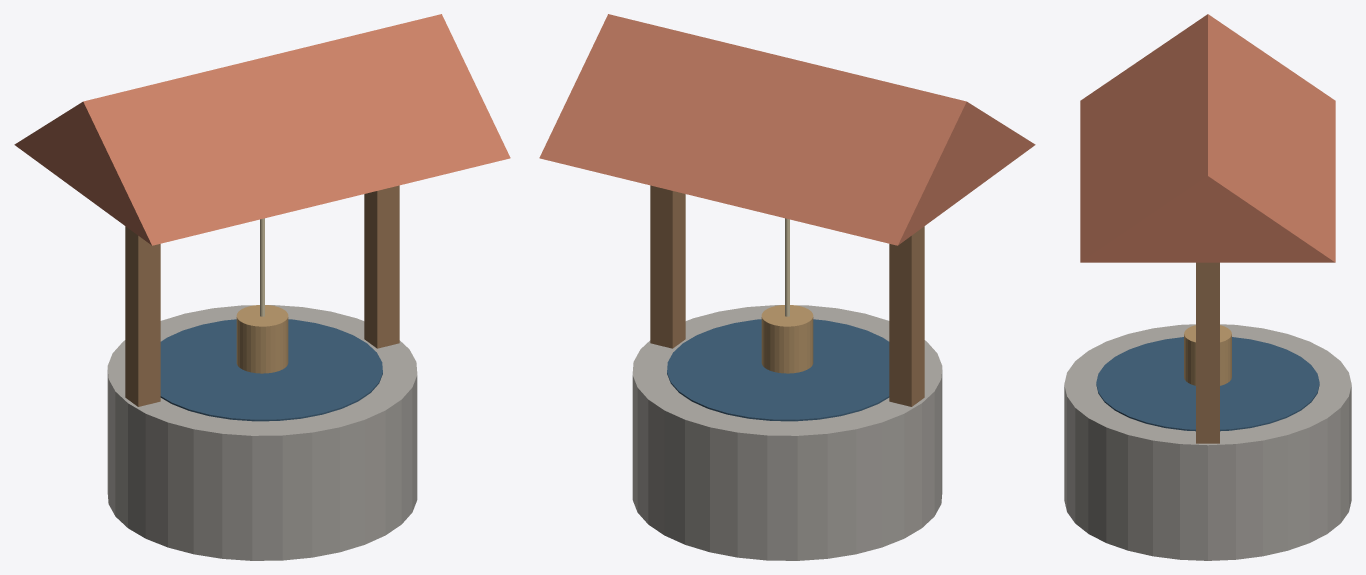
The model's file is well.glb.
The picture shows the model from 3 angles, left to right: view 1: azimuth 30°, elevation 25°; view 2: azimuth 150°, elevation 25°; view 3: azimuth 270°, elevation 25°; orthographic projection. The views are drawn at different scales.
Parts seen in each view (by area): view 1: Roof, Ring, Water, PostL, PostR, Bucket; view 2: Roof, Ring, Water, PostL, PostR, Bucket; view 3: Roof, Ring, Water, PostR, Bucket.
Part boxes in pixels (x1,y1,x2,y2): Roof: (14,14,510,245); Ring: (107,305,417,560); Water: (160,319,382,421); PostL: (125,226,160,406); PostR: (364,185,399,348); Bucket: (236,305,288,373); Roof: (539,14,1035,245); Ring: (632,305,942,560); Water: (667,319,889,421); PostL: (889,226,924,406); PostR: (650,185,685,348); Bucket: (761,305,813,373); Roof: (1080,14,1335,262); Ring: (1064,324,1351,560); Water: (1096,337,1319,431); PostR: (1196,262,1219,443); Bucket: (1184,325,1231,385).
Bounding box in the file's own units: 2.4 × 2.8 × 1.8.
